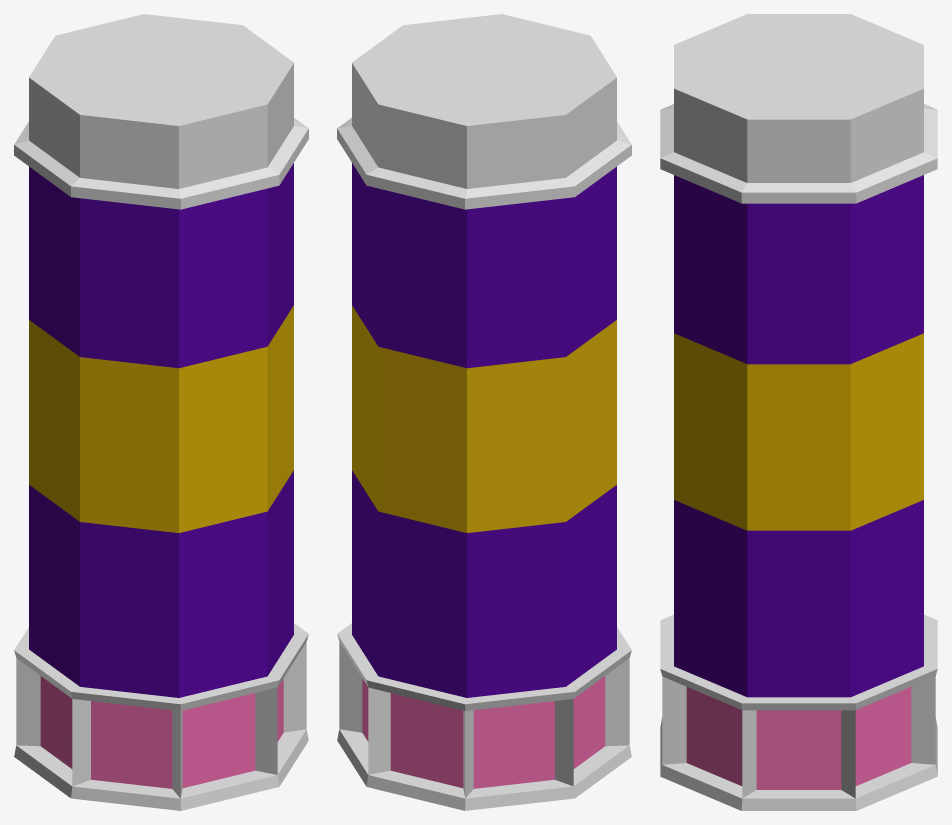
File: bubbleRifleAmmo.fbx
The picture shows the model from 3 angles, left to right: view 1: azimuth 30°, elevation 25°; view 2: azimuth 150°, elevation 25°; view 3: azimuth 270°, elevation 25°; orthographic projection.
Parts seen in each view (by area): view 1: rifle ammo; view 2: rifle ammo; view 3: rifle ammo.
Part boxes in pixels (x1,y1,x2,y2): rifle ammo: (14,14,308,810); rifle ammo: (337,14,631,810); rifle ammo: (660,14,937,810).
Size of the model in its own units: 3.73 by 10.17 by 3.73.
